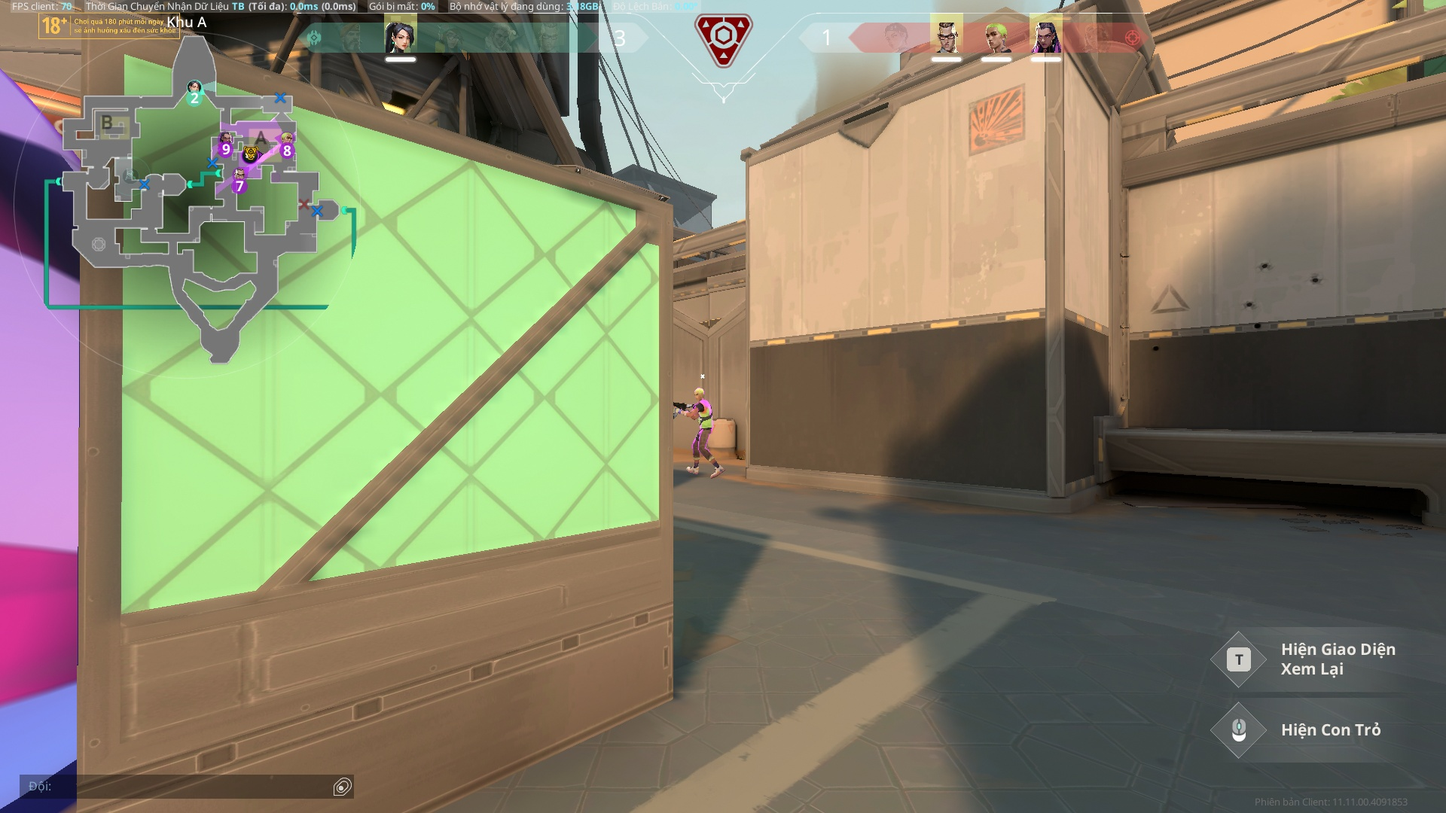body: (693, 399, 715, 430)
head: (693, 385, 706, 401)
